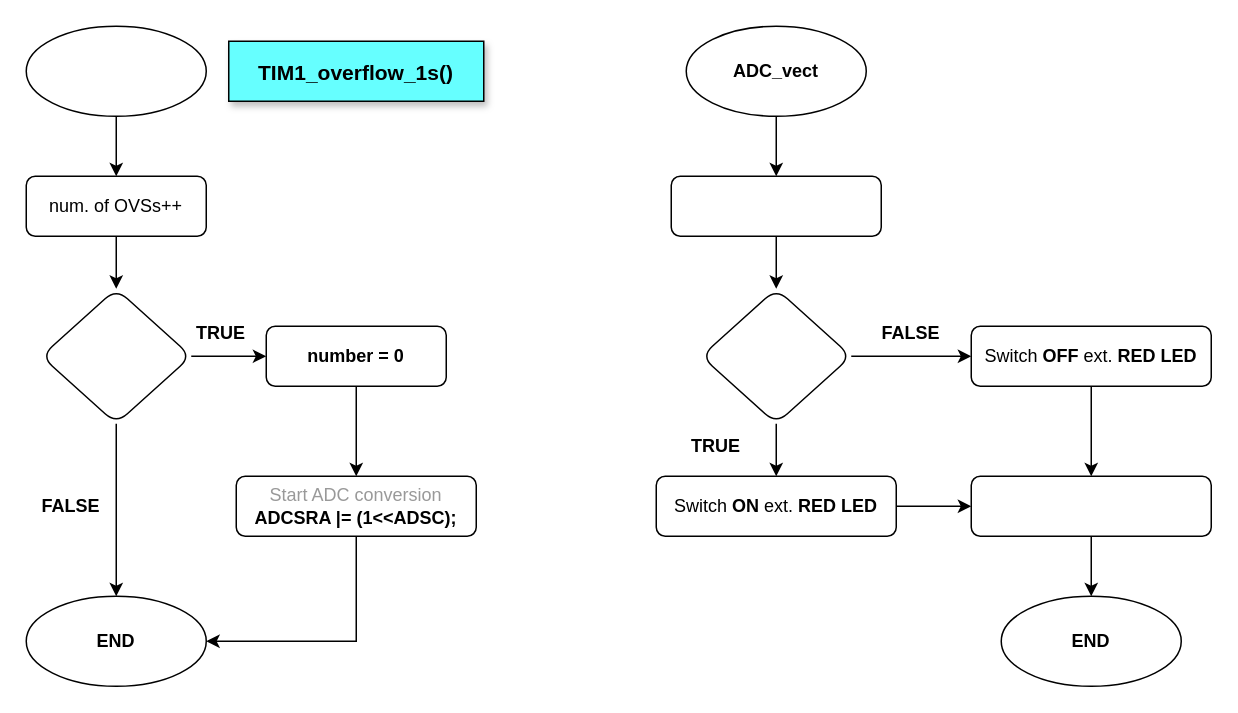
Some shapes in this 1238 by 713 pixel diagram are drawn without their labels. The shapes that lost their labels are listed below. From the top down, each one's centre as x and y in pixels, then its label:
At point (115, 70): "TIMER1_OVF_vect".
At point (775, 205): "A/D temp. conversion".
At point (115, 355): "number > 29".
At point (775, 355): "temp > 50 (too high)".
At point (1090, 505): "Display converted value on LCD screen".
